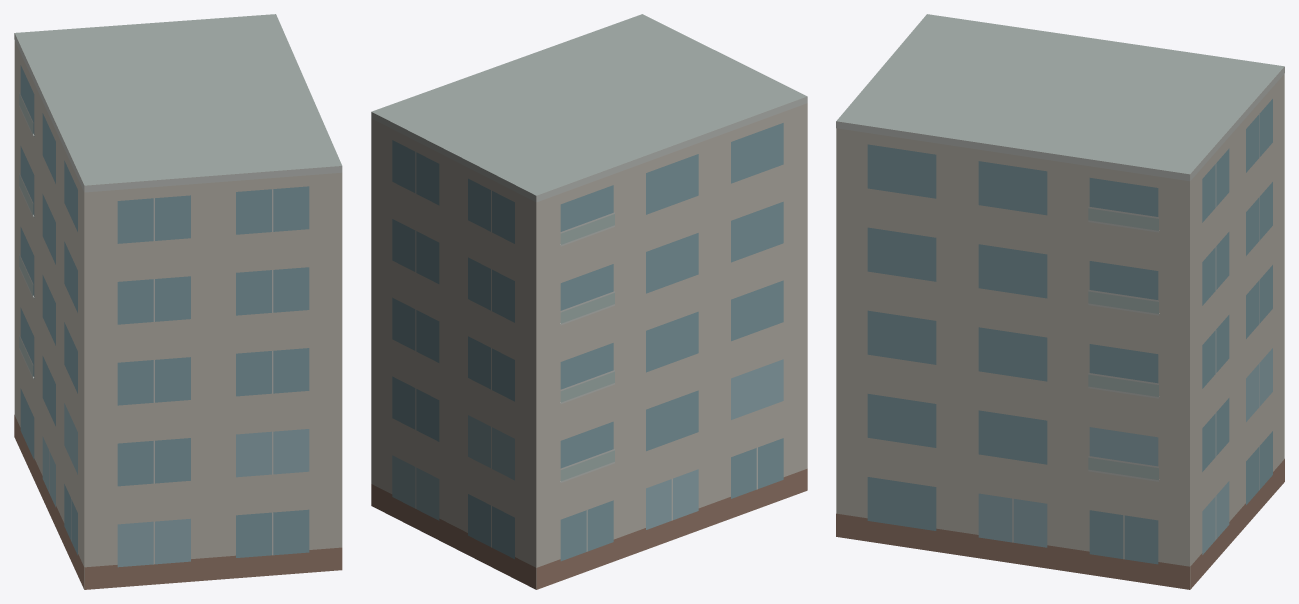
The model's file is survey-upis-32974720.glb.
3 renders of one model, left to right at view 1: azimuth 30°, elevation 25°; view 2: azimuth 150°, elevation 25°; view 3: azimuth 270°, elevation 25°, orthographic. The views are drawn at different scales.
Visible parts, largest first — view 1: survey-upis-32974720.tmp; view 2: survey-upis-32974720.tmp; view 3: survey-upis-32974720.tmp.
Boxes of the visible parts, <box> form: survey-upis-32974720.tmp: <box>14,14,342,589</box>; survey-upis-32974720.tmp: <box>371,14,807,589</box>; survey-upis-32974720.tmp: <box>836,14,1284,589</box>.
Size of the model in its own units: 11.97 by 14.45 by 14.15.
